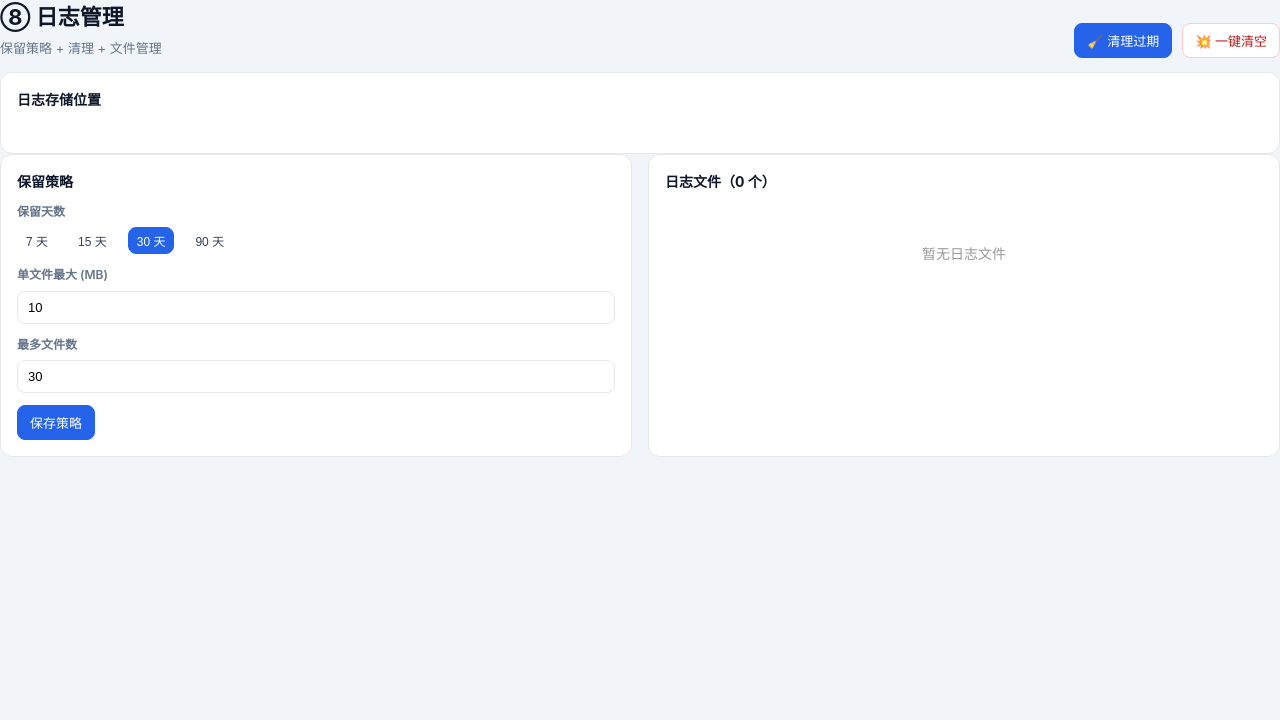
Test: Logs 日志管理 › 一键清空应弹出确认
The image size is (1280, 720).
Click the button "💥 一键清空" at [1231, 41], box [1182, 23, 1279, 58]
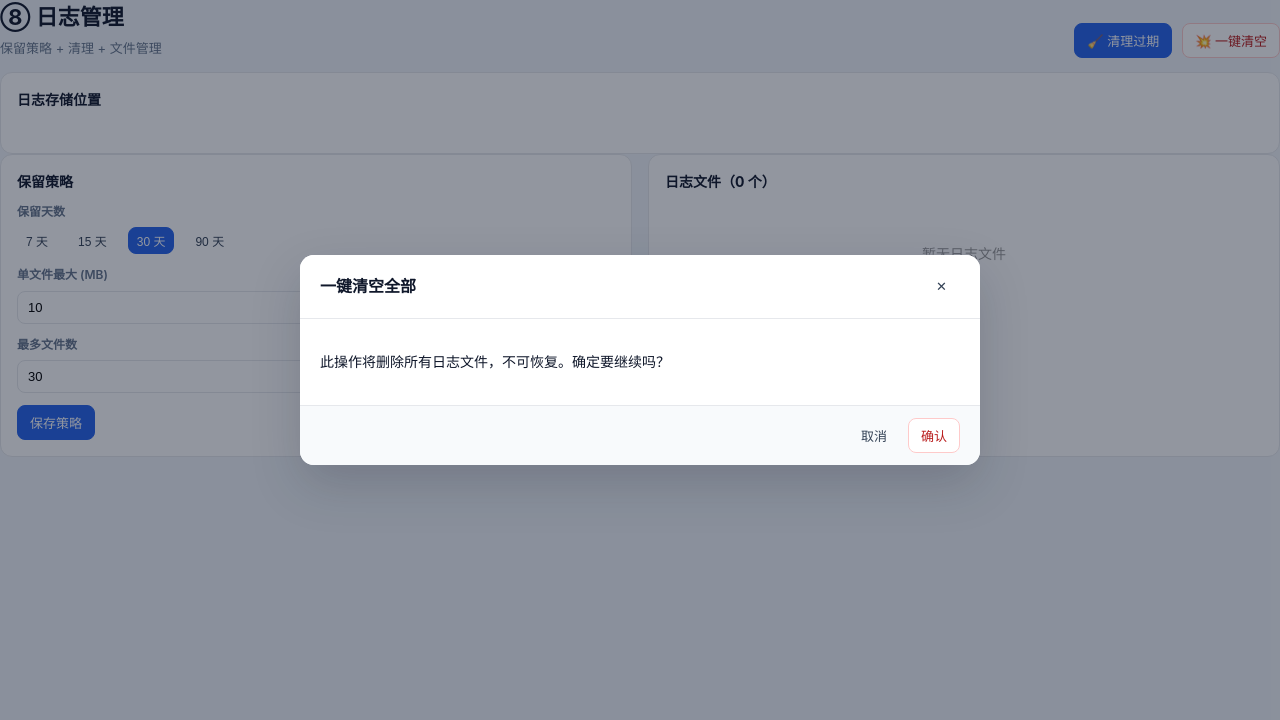
Check: the text "此操作将删除所有日志文件，不可恢复。确定要继续吗？" is shown, box [320, 353, 670, 370]
